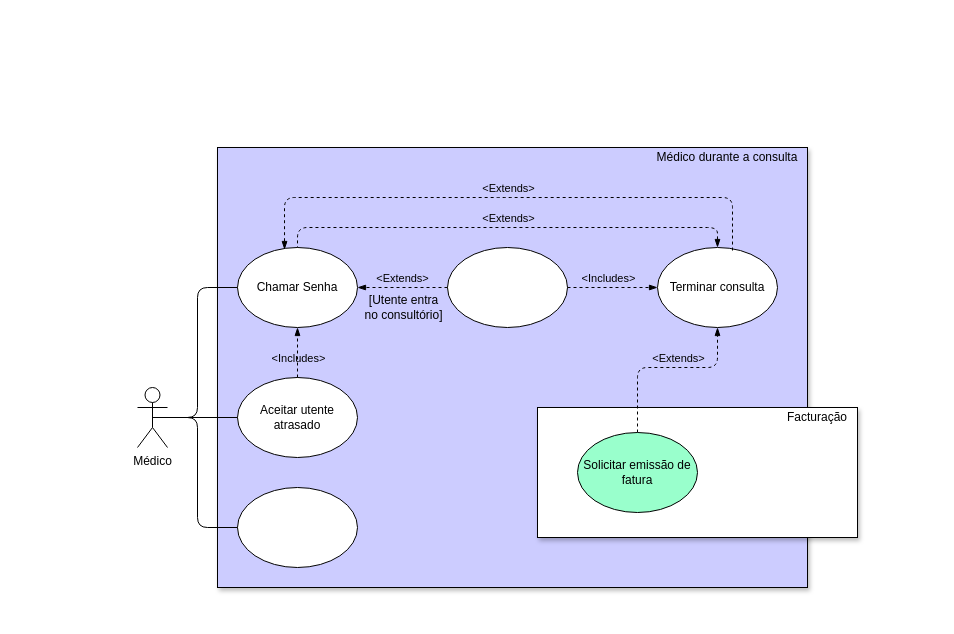
Image size: 954x634. Some labels were removed from this diagram. The shapes that lost their labels are listed below. From the top down, each one's centre as x and y in pixels, then its label:
At point 507,287: "Realizar Consulta".
At point 297,527: "Rejeitar utente atrasado".
